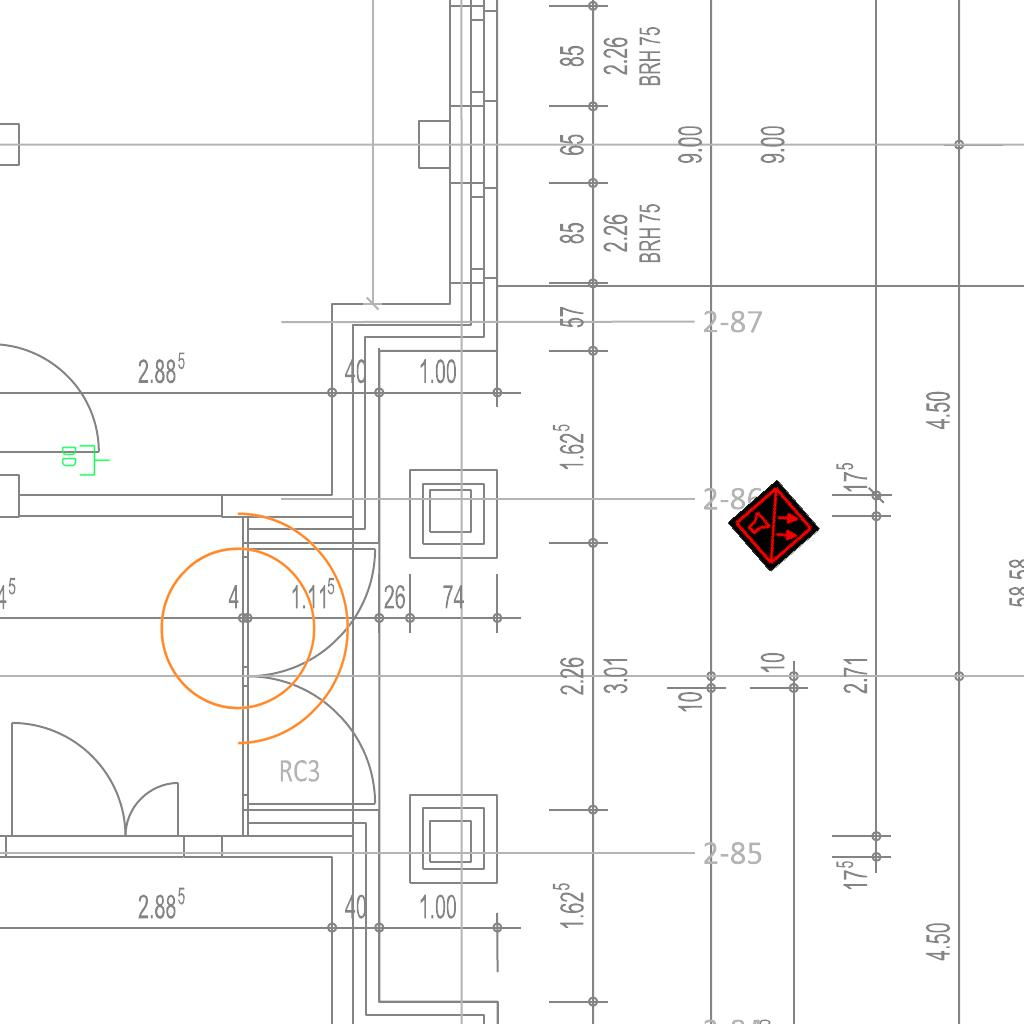Datenanschluss_zweifach: (60, 443, 111, 477)
OKW_Multisensormelder_(Kombination_optischer_Rauch-Kahlenmonoxid_Waerme-Melder): (727, 479, 821, 573)
Scheinwerfer_fuer_Alarmbeleuchtung: (135, 490, 360, 754)
